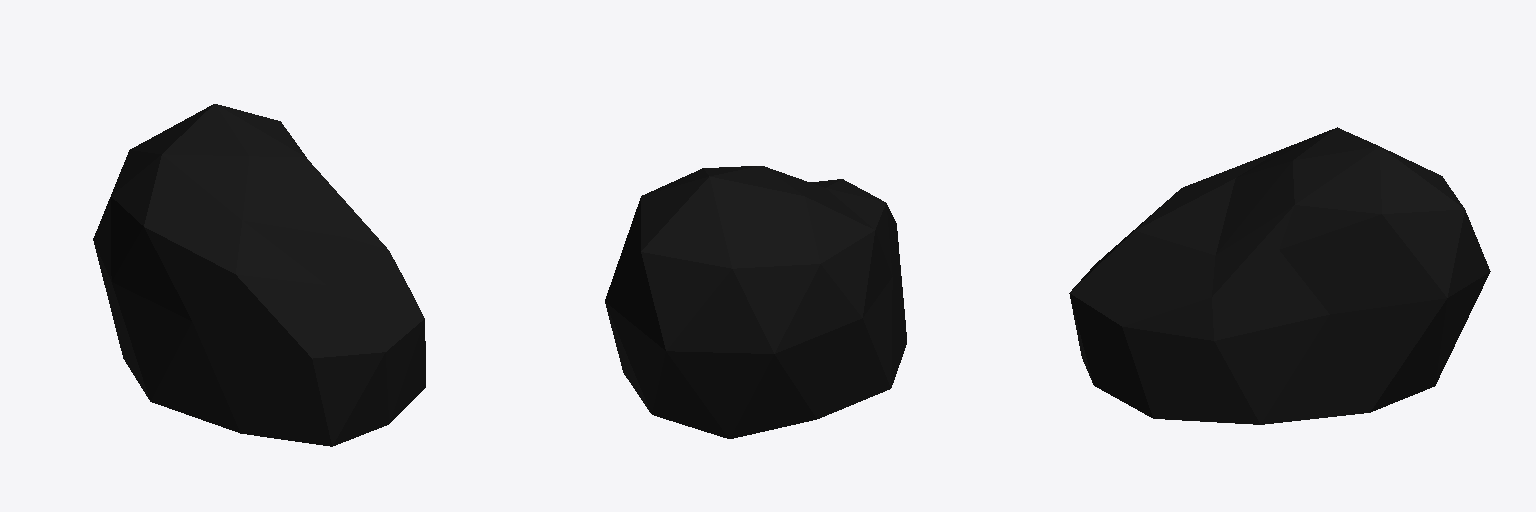
The model's file is Rock1.obj.
3 renders of one model, left to right at view 1: azimuth 30°, elevation 25°; view 2: azimuth 150°, elevation 25°; view 3: azimuth 270°, elevation 25°, orthographic.
Visible parts, largest first — view 1: Icosphere_Icosphere.001; view 2: Icosphere_Icosphere.001; view 3: Icosphere_Icosphere.001.
Boxes of the visible parts, <box> form: Icosphere_Icosphere.001: <box>93,104,425,446</box>; Icosphere_Icosphere.001: <box>605,166,906,438</box>; Icosphere_Icosphere.001: <box>1069,127,1490,424</box>.
Size of the model in its own units: 1.38 by 1.25 by 2.1.